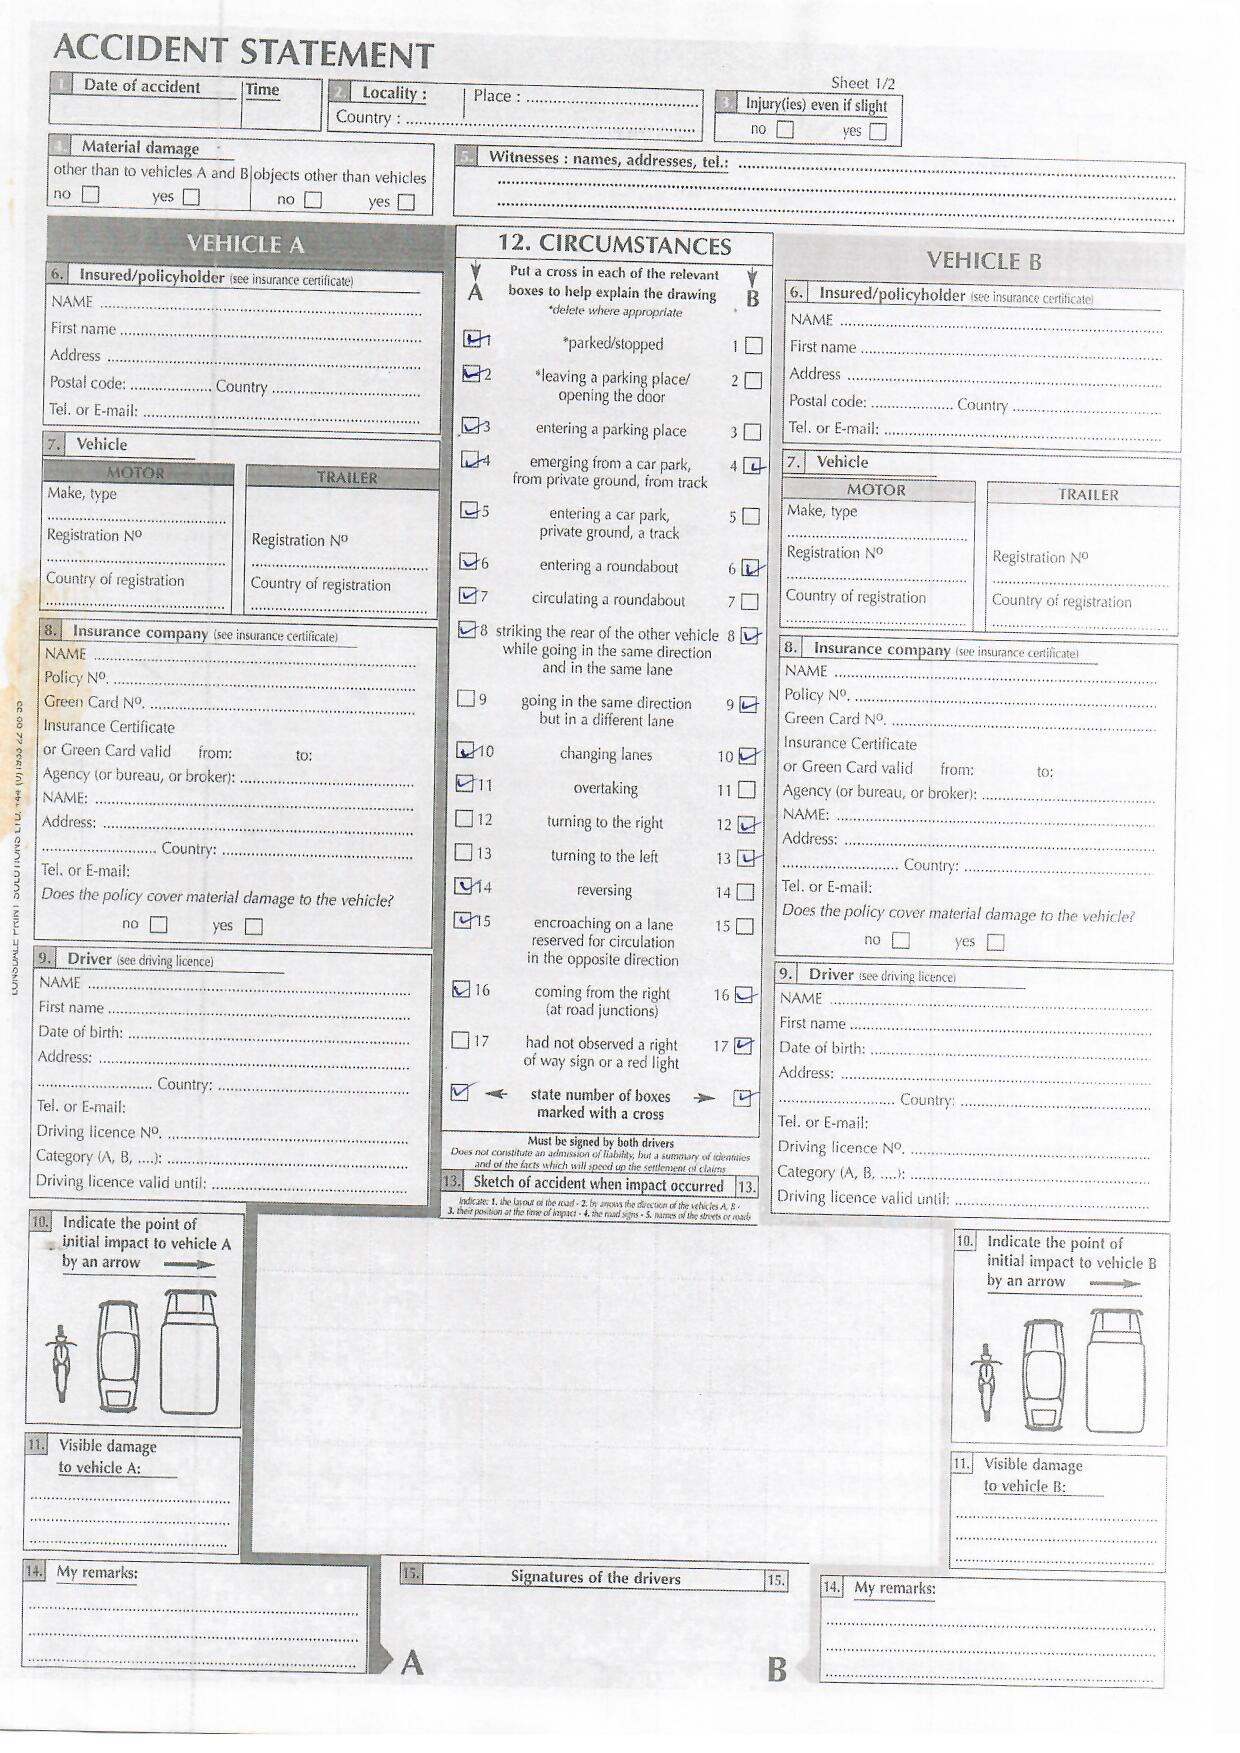a: (737, 554, 764, 581), (735, 623, 761, 650), (738, 452, 764, 479), (451, 737, 478, 762), (733, 811, 758, 838), (450, 907, 476, 933), (735, 740, 760, 768), (450, 872, 474, 901), (731, 981, 756, 1009), (731, 1031, 756, 1059), (454, 617, 480, 642), (450, 770, 475, 795), (734, 846, 758, 871), (458, 497, 480, 523), (455, 448, 483, 470), (734, 691, 758, 715), (448, 977, 472, 1001), (459, 328, 483, 350), (458, 413, 480, 438), (458, 549, 480, 573), (458, 584, 480, 608), (460, 361, 482, 387)
